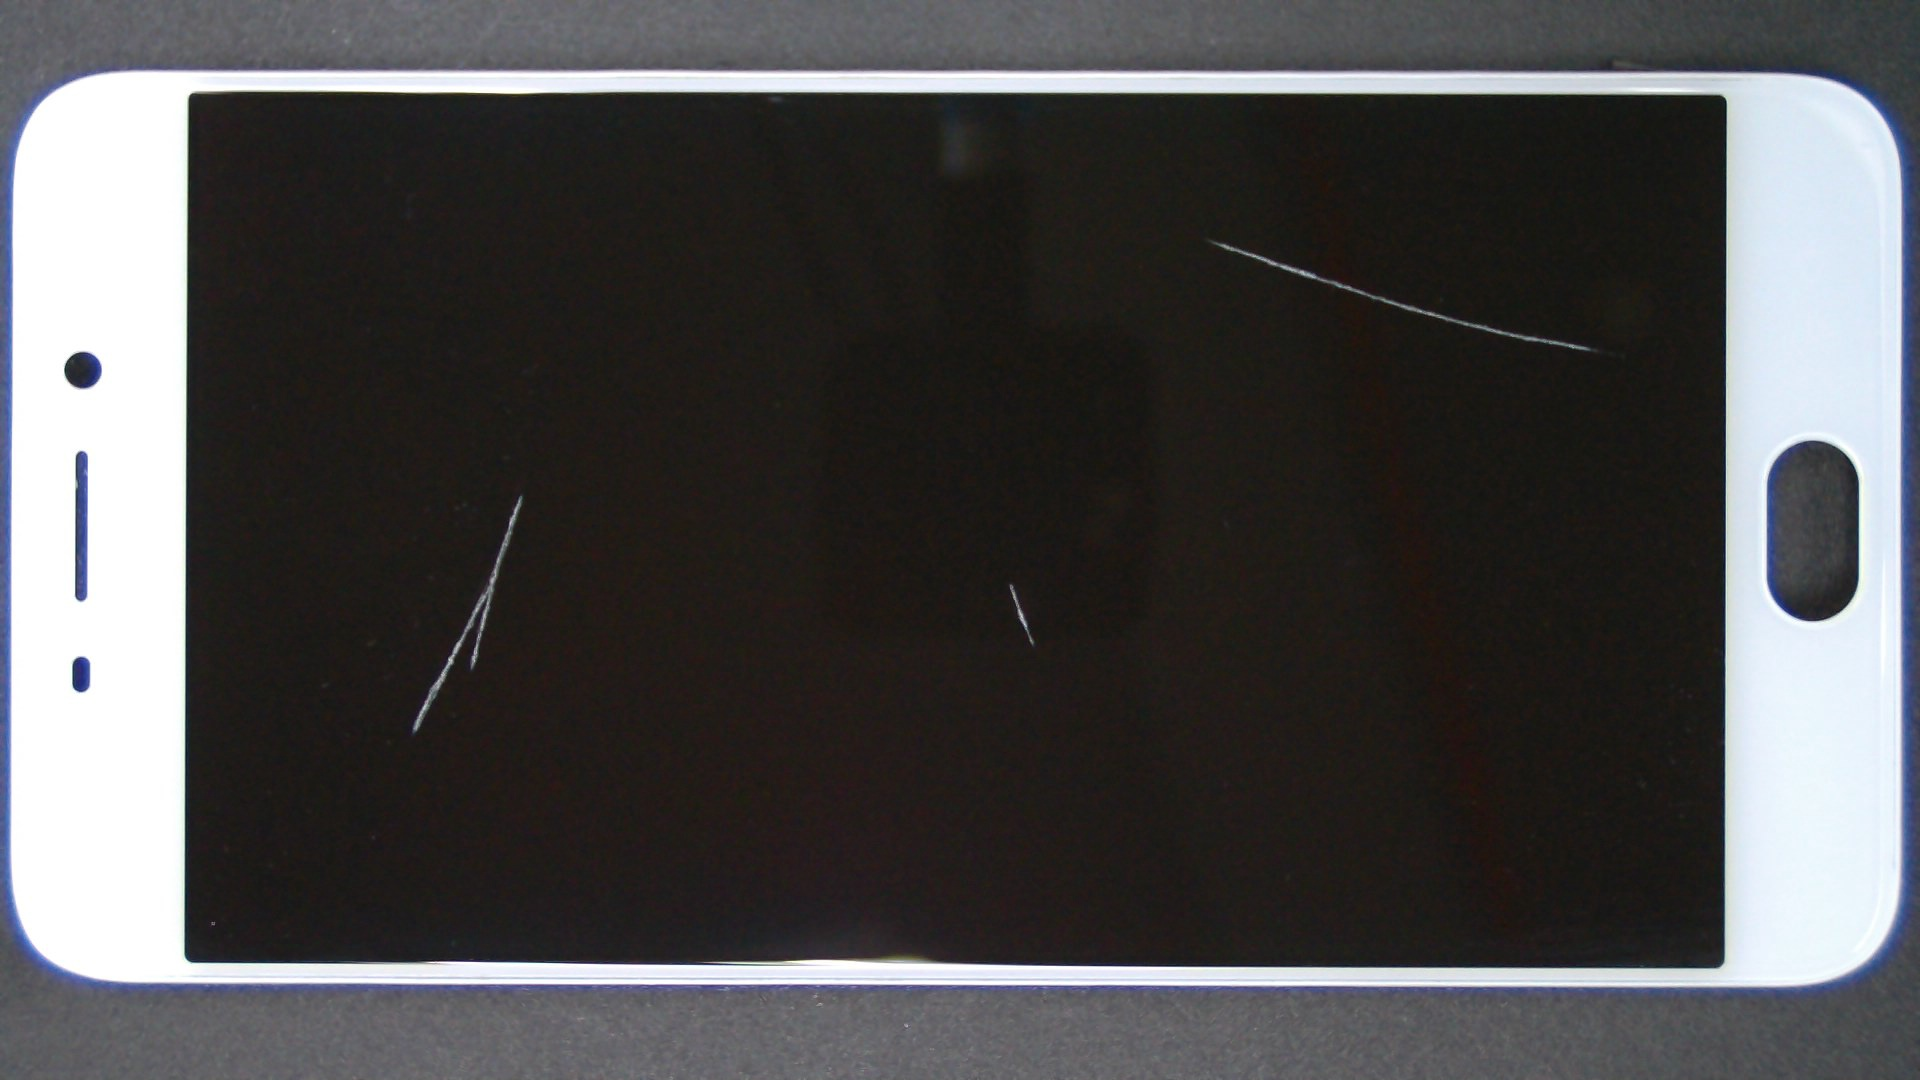oil: (505, 291, 1515, 876), (600, 116, 1813, 360), (261, 247, 782, 742)
